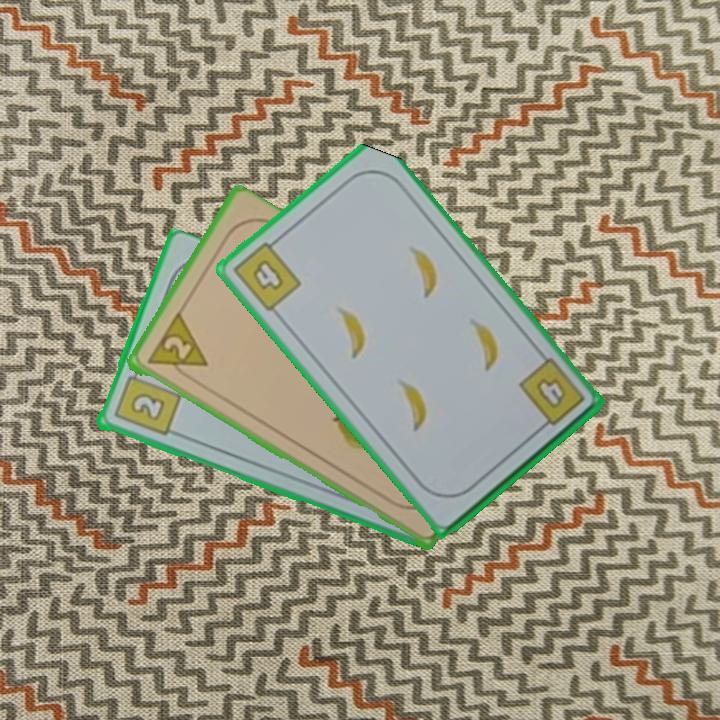2b: (110, 364, 183, 440)
2p: (142, 311, 211, 384)
4b: (229, 233, 304, 315), (514, 354, 588, 435)
